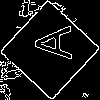A: (25, 25, 72, 61)
